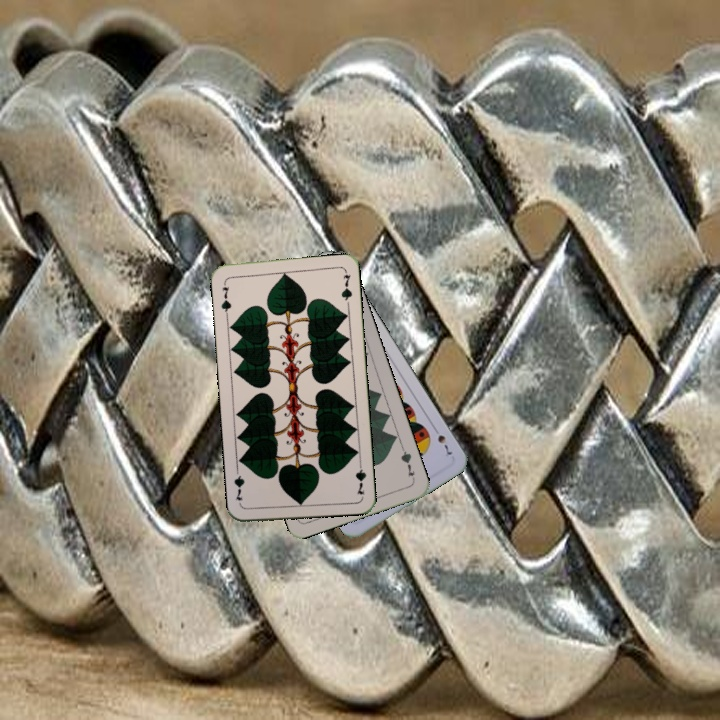G7: (397, 444, 417, 483), (351, 457, 369, 497), (217, 278, 234, 318)
S7: (429, 423, 454, 458)
